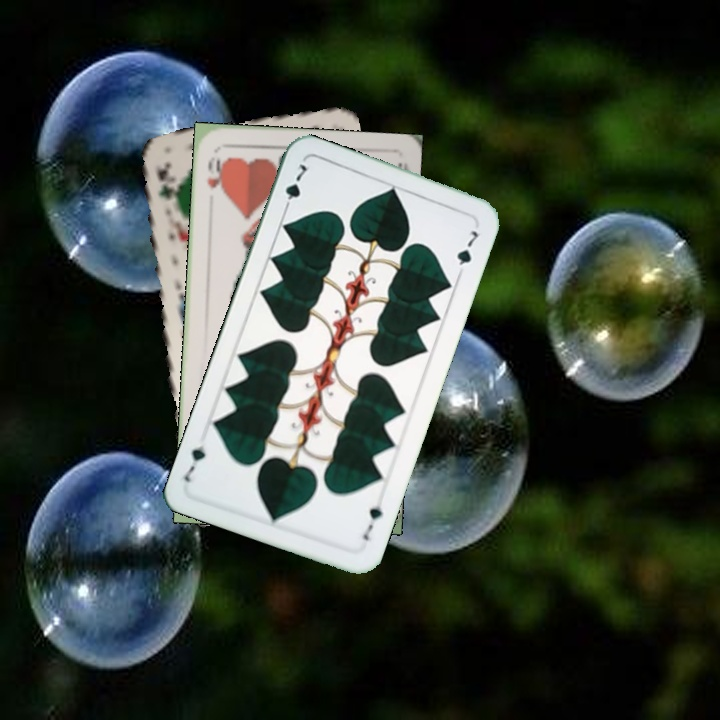G7: (279, 160, 310, 215), (359, 494, 386, 543)
GK: (151, 157, 174, 203)
HO: (203, 152, 227, 197)
